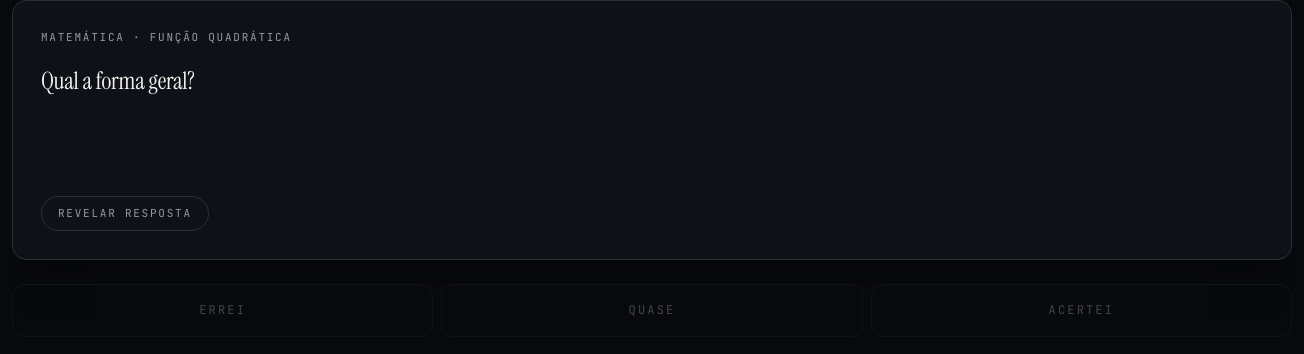
FlashcardDuel › reveals the back when 'Revelar resposta' is clicked
Click the button "Revelar resposta" at (125, 214), box top-left (41, 196), bottom-right (209, 231)
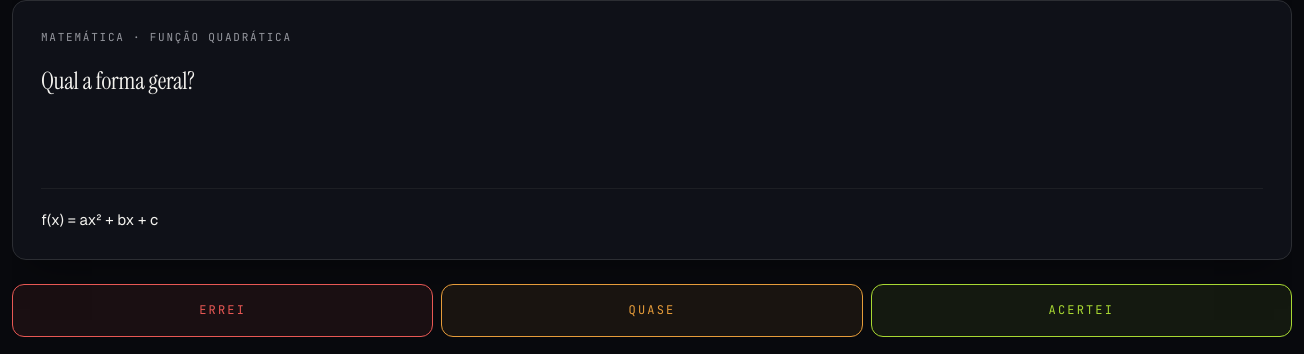
Result: the text "f(x) = ax² + bx + c" is shown at top-left (41, 188), bottom-right (1263, 231)
